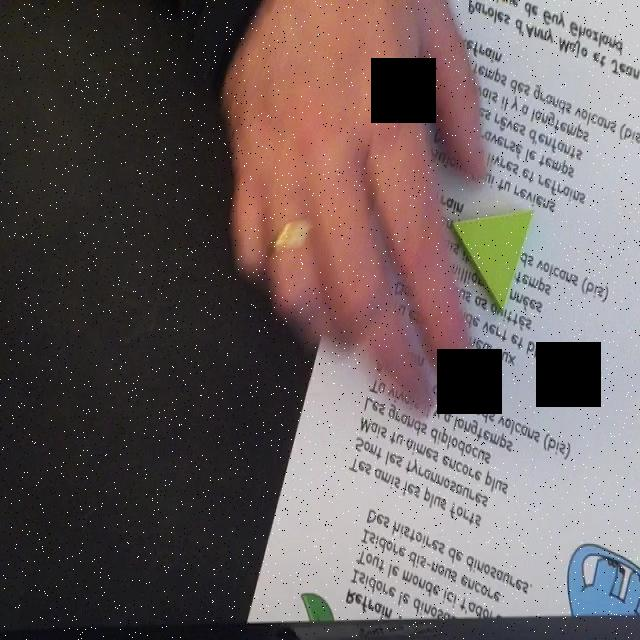triangle: (452, 206, 535, 313)
